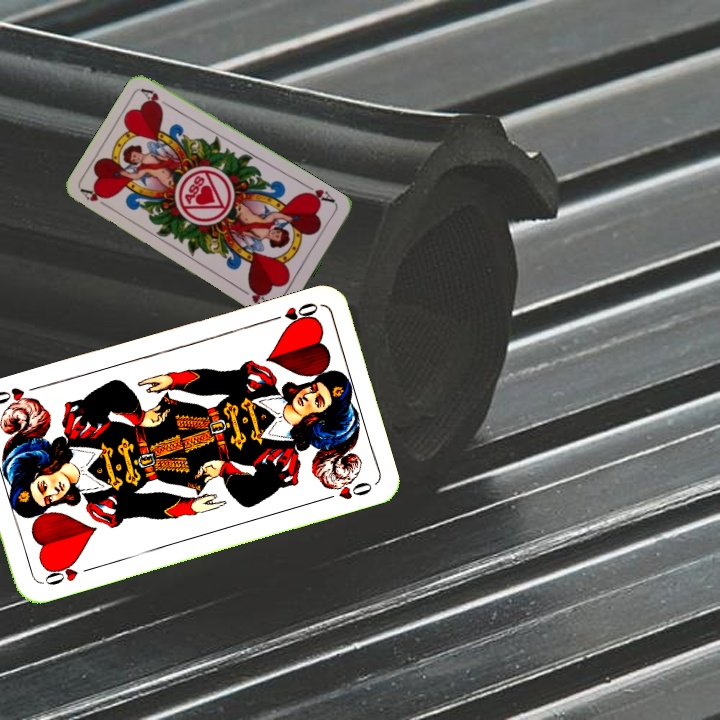HA: (299, 181, 339, 207), (78, 185, 115, 212)
HO: (39, 557, 97, 588), (264, 298, 321, 329)
